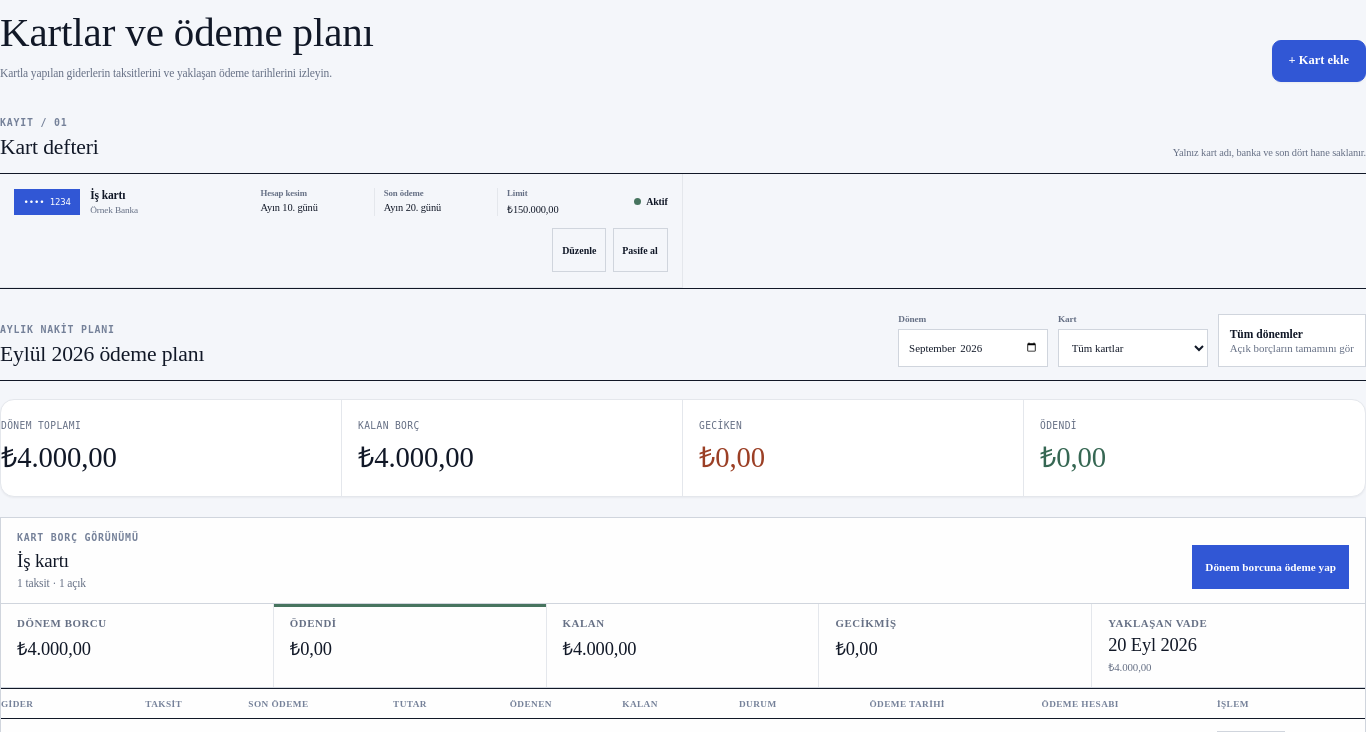
CardPlanWorkspace › closes a stale bulk editor and requires a safe plan reload after conflict
This screenshot has width=1366, height=732.
Click the button "Dönem borcuna ödeme yap".
click(1271, 567)  # box left=1192, top=545, right=1349, bottom=589
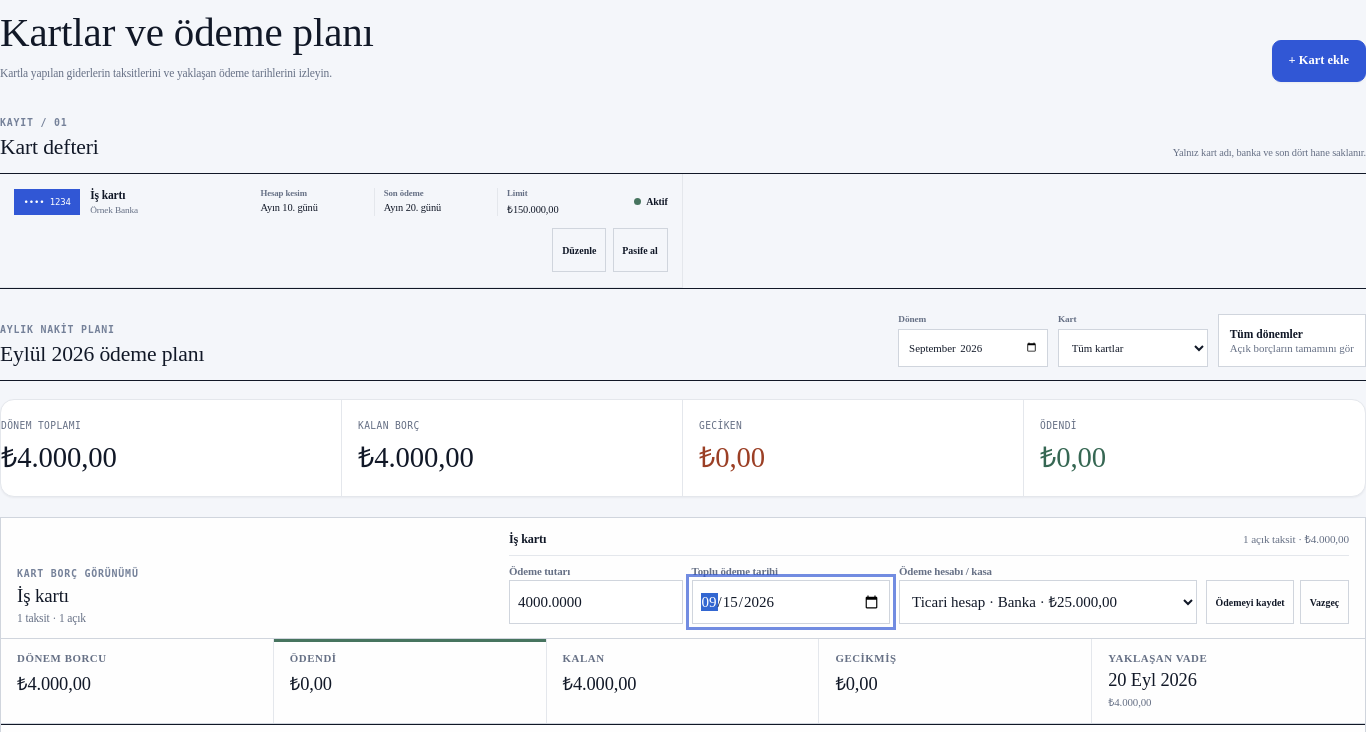
Click the button "Ödemeyi kaydet".
click(1250, 602)  # box left=1206, top=580, right=1294, bottom=624
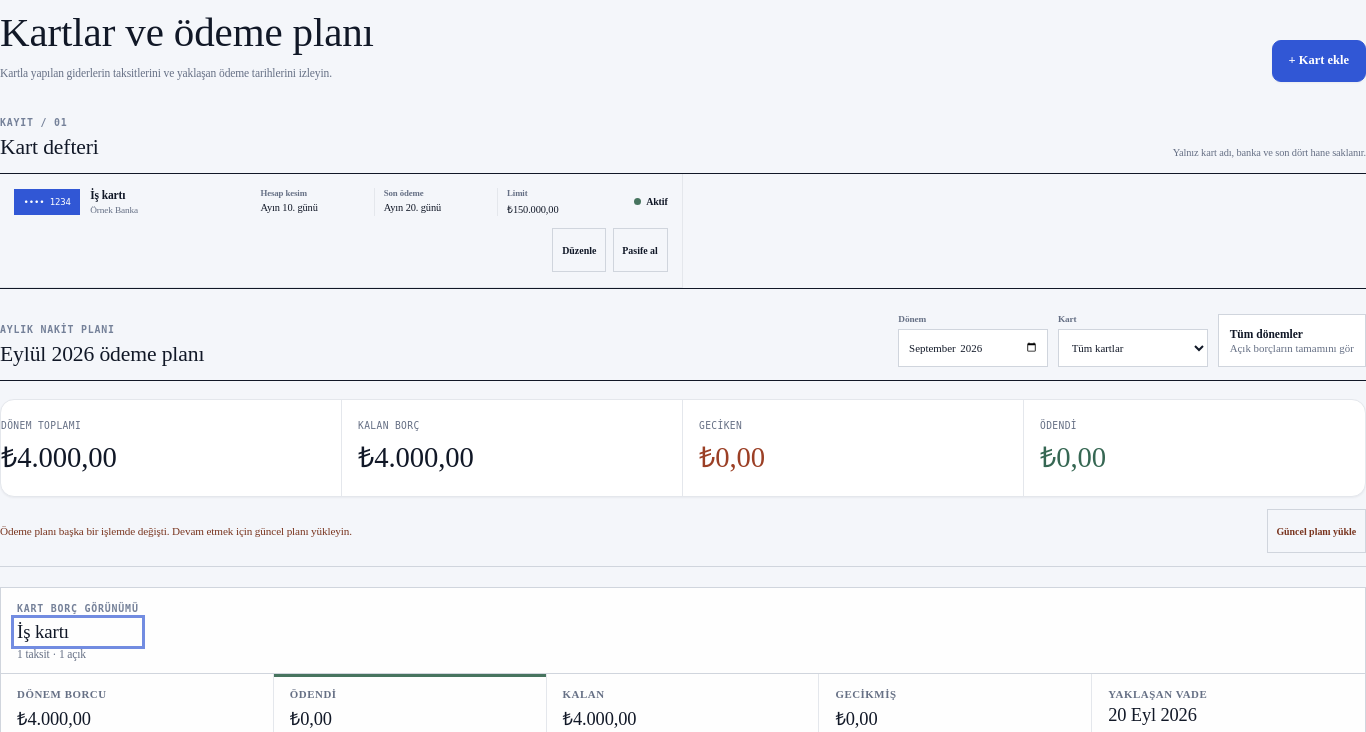
Expected: the button "Dönem borcuna ödeme yap" is not shown
Click the button "Güncel planı yükle".
click(1316, 531)  # box left=1267, top=509, right=1365, bottom=553
(page scrolled)
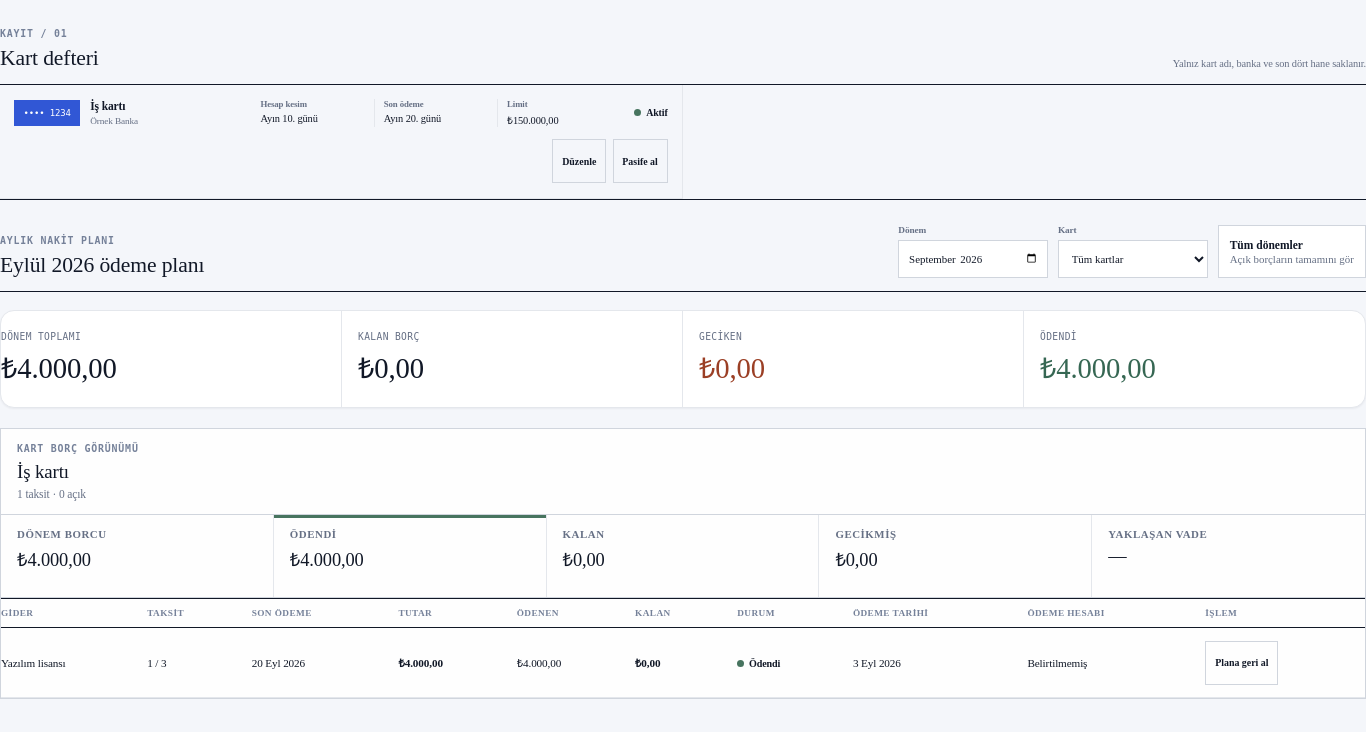
Expected: the text "Ödendi" in the row of "Yazılım lisansı" is shown, left=749, top=658, right=780, bottom=669
Expected: the text "güncel planı yükle" is gone
